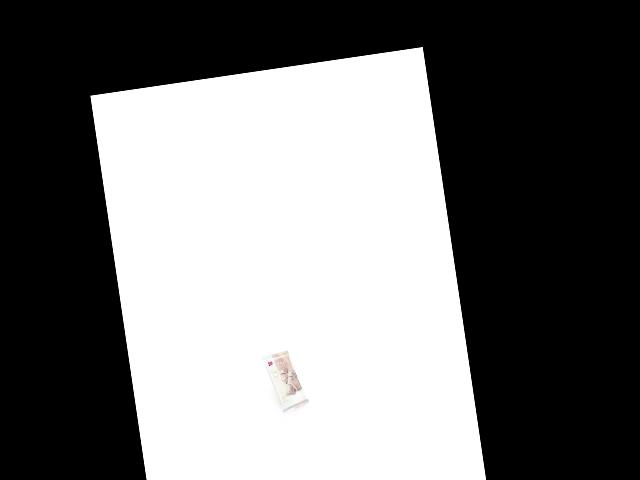chocolate: (259, 347, 314, 411)
